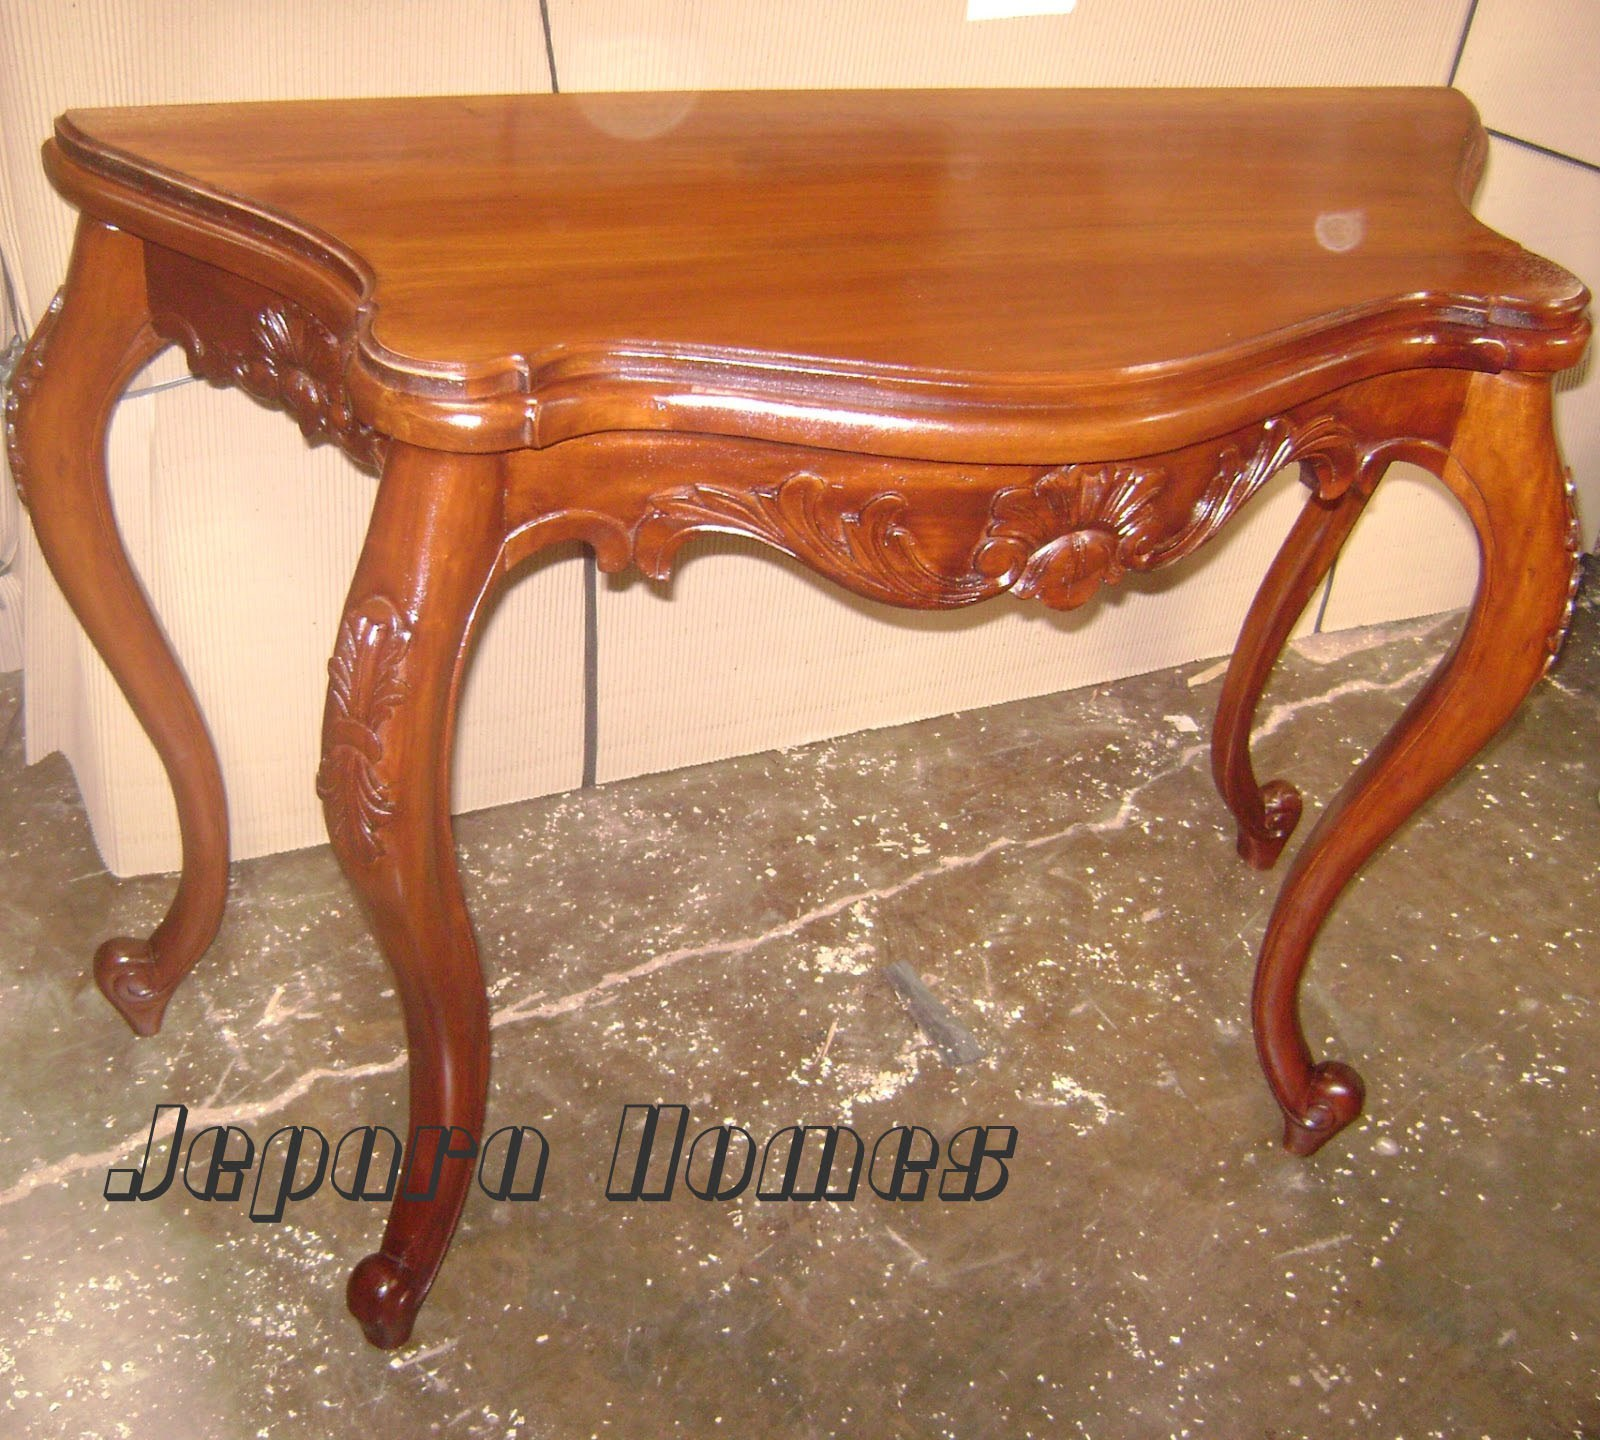Carving Table: (33, 74, 1574, 1273)
